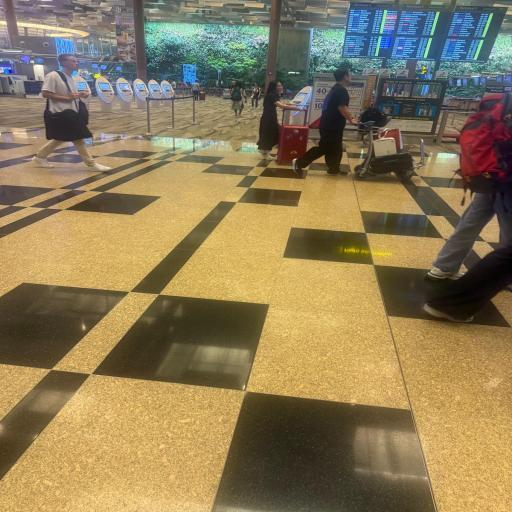person_right: (424, 91, 512, 281), (33, 53, 113, 172), (423, 236, 512, 323)
person_with_luggage_right: (292, 67, 426, 182), (256, 80, 310, 164)
